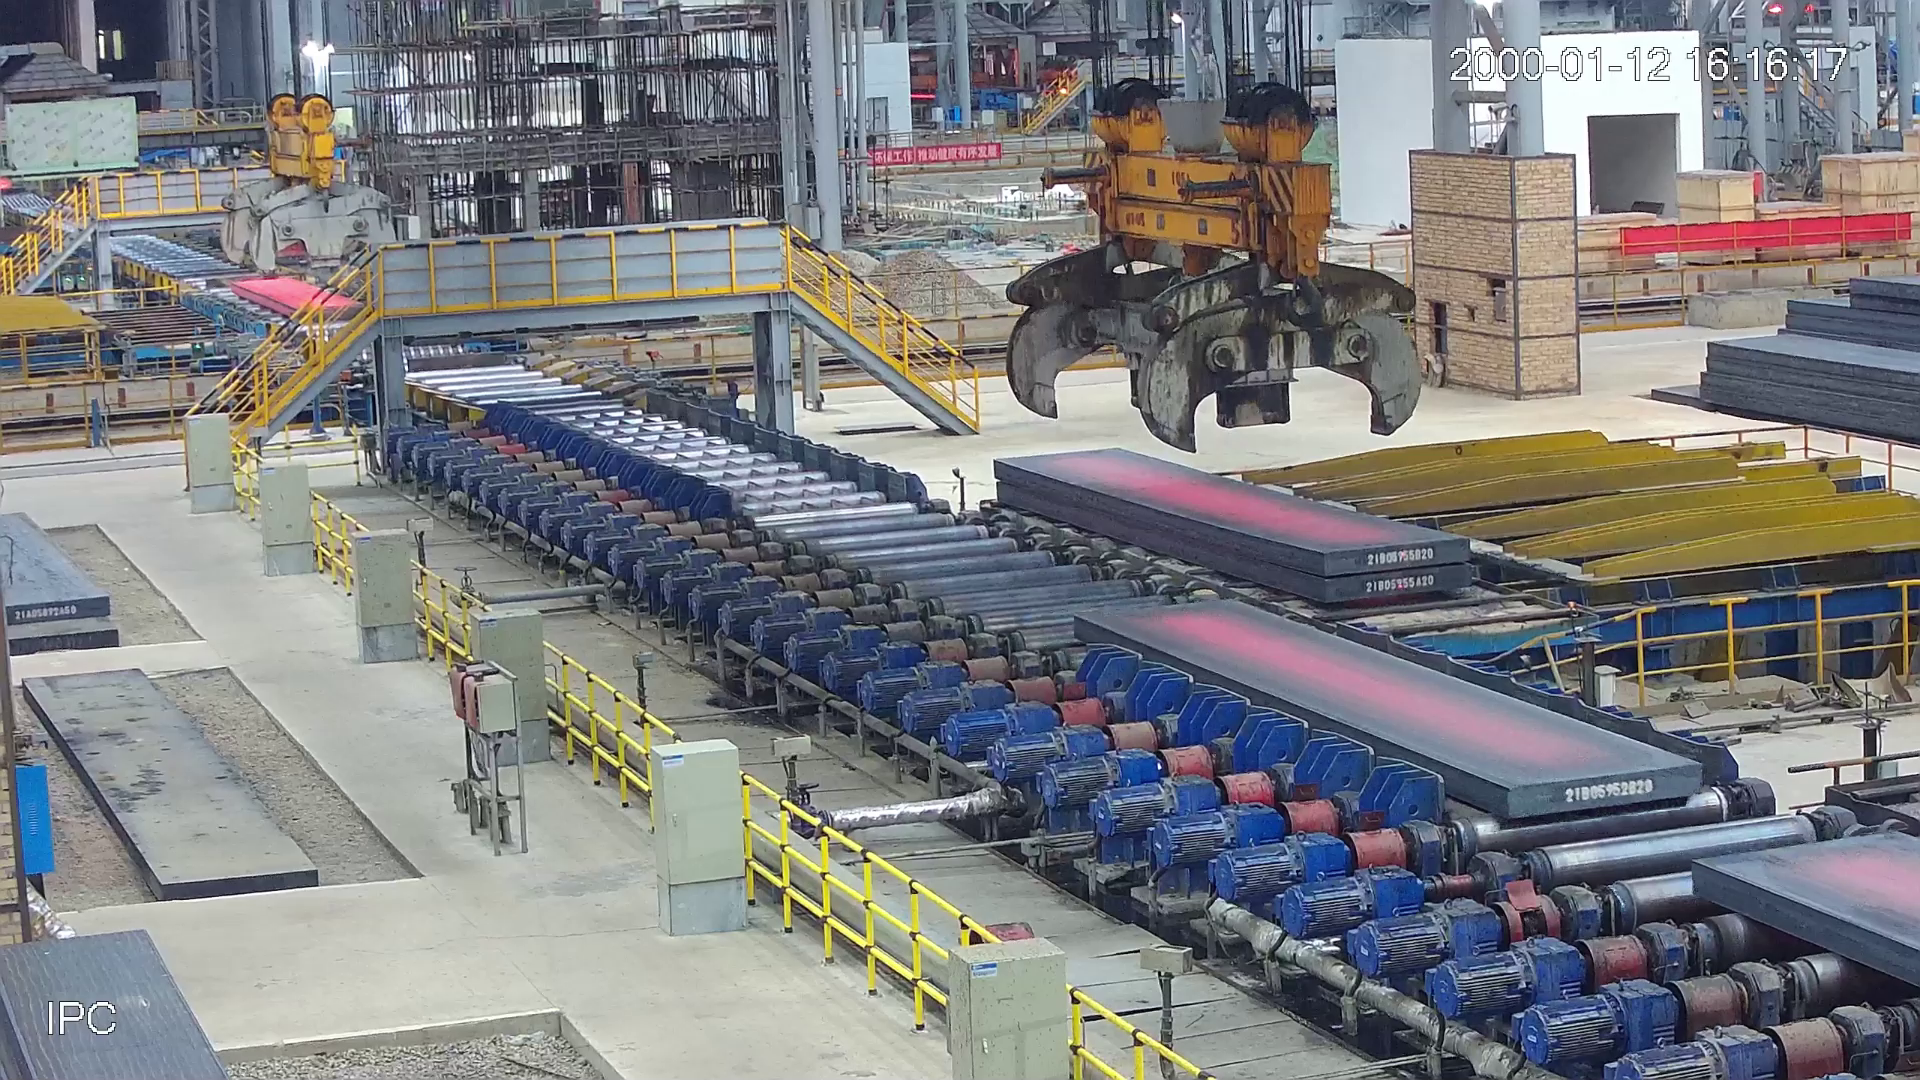crane: (1005, 83, 1425, 448), (222, 91, 396, 272)
slab: (1072, 608, 1705, 820), (992, 448, 1476, 615), (1691, 827, 1920, 982), (227, 280, 368, 320)
